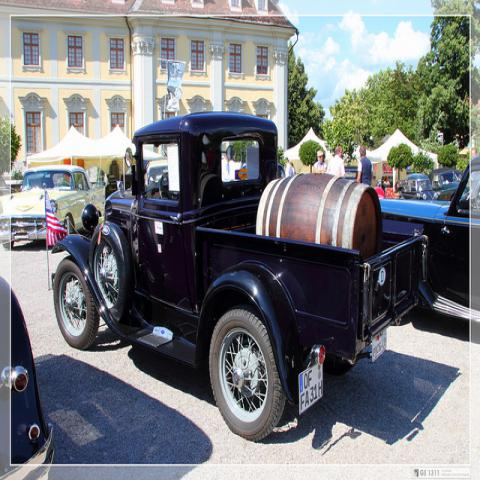car: (378, 152, 479, 312), (1, 278, 54, 474), (12, 164, 106, 247), (428, 168, 464, 201), (402, 173, 439, 201), (145, 158, 169, 188)
truck: (50, 111, 428, 441), (379, 153, 479, 316)
